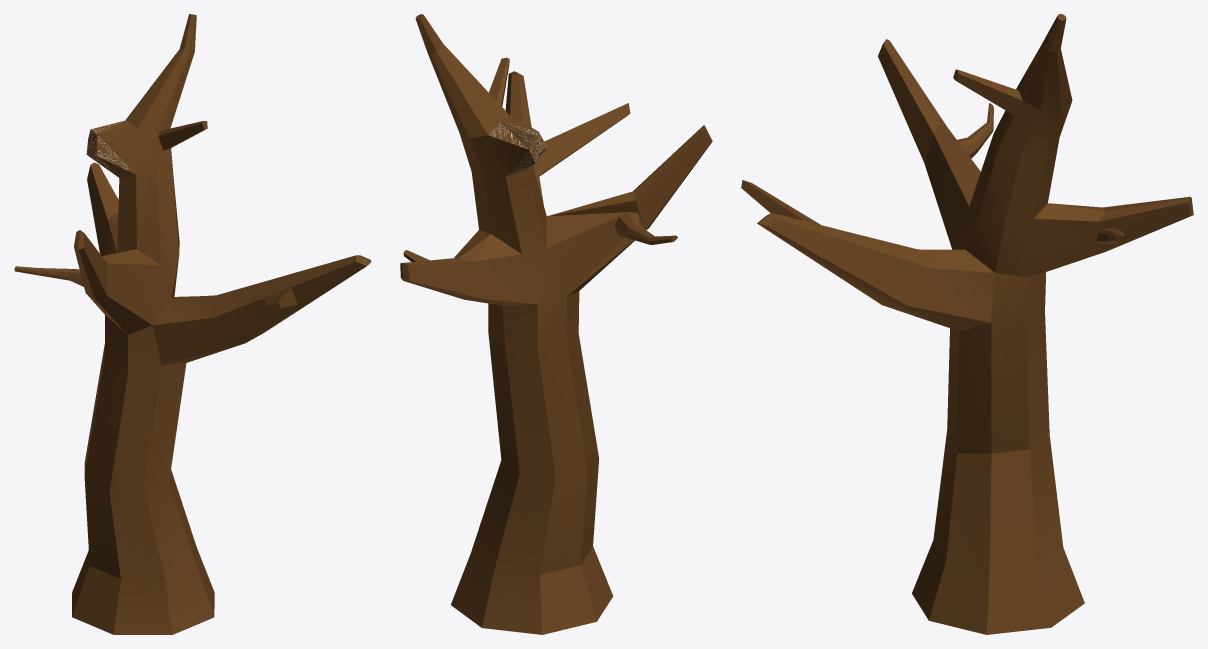
File: Tree_Dead_02.fbx
3 views of the same model, side by side, from view 1: azimuth 30°, elevation 25°; view 2: azimuth 150°, elevation 25°; view 3: azimuth 270°, elevation 25° (orthographic). The views are drawn at different scales.
Parts seen in each view (by area): view 1: Model; view 2: Model; view 3: Model.
Boxes of the visible parts, x1,y1,x2,y2 form: Model: (14,14,371,634); Model: (400,14,712,634); Model: (741,14,1193,634).
Size of the model in its own units: 191 by 390 by 256.
